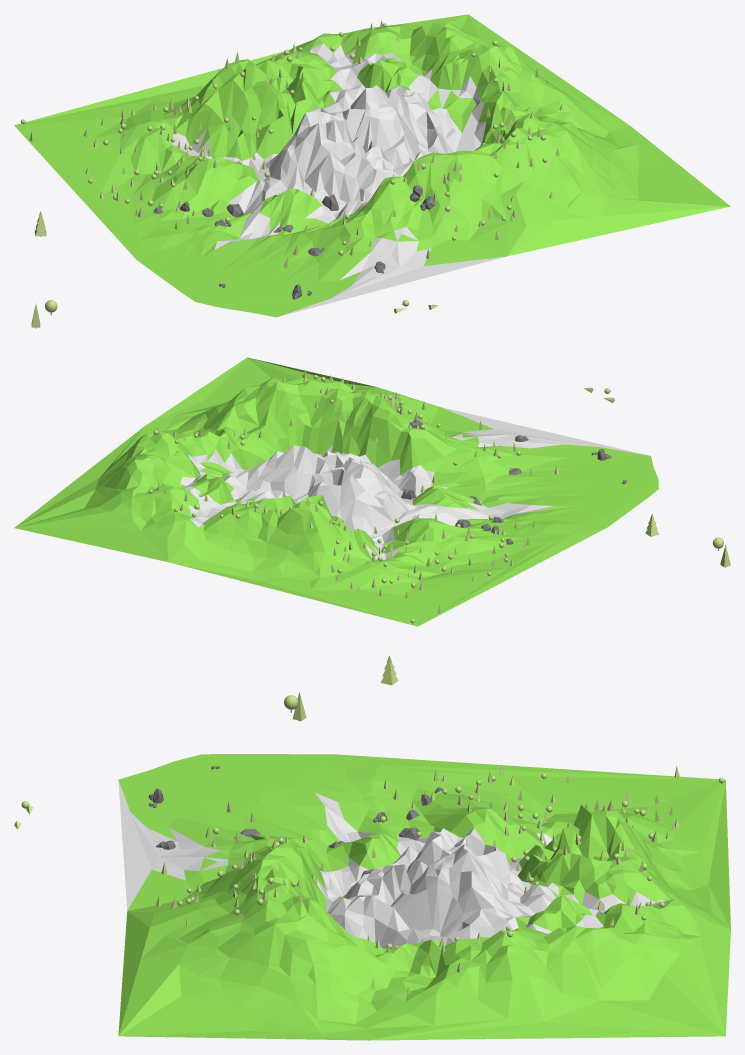
Rendered from FeelBarbarianBackground.fbx.
3 renders of one model, top to bottom at view 1: azimuth 30°, elevation 25°; view 2: azimuth 150°, elevation 25°; view 3: azimuth 270°, elevation 25°, orthographic. The views are drawn at different scales.
Parts seen in each view (by area): view 1: Ground; view 2: Ground; view 3: Ground.
Part boxes in pixels (left/top/right/bottom): Ground: left=14, top=14, right=730, bottom=317; Ground: left=14, top=357, right=658, bottom=626; Ground: left=118, top=754, right=730, bottom=1040.
Bounding box in the file's own units: 346 × 50.75 × 295.
